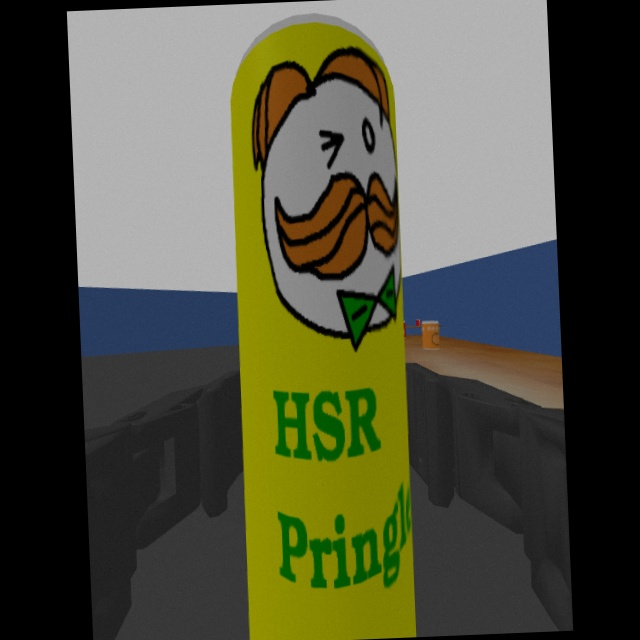chipsdose_gelb: (230, 13, 417, 640)
